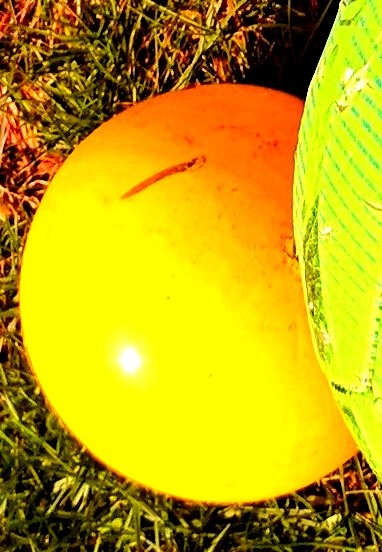ball: (17, 85, 371, 506)
